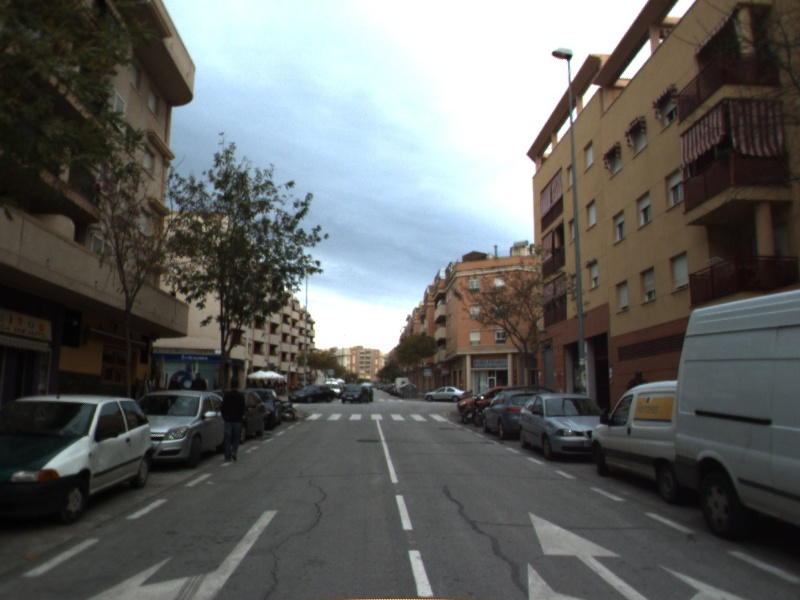STRAIGHT_LEFT_RIGHT: (524, 507, 749, 600)
